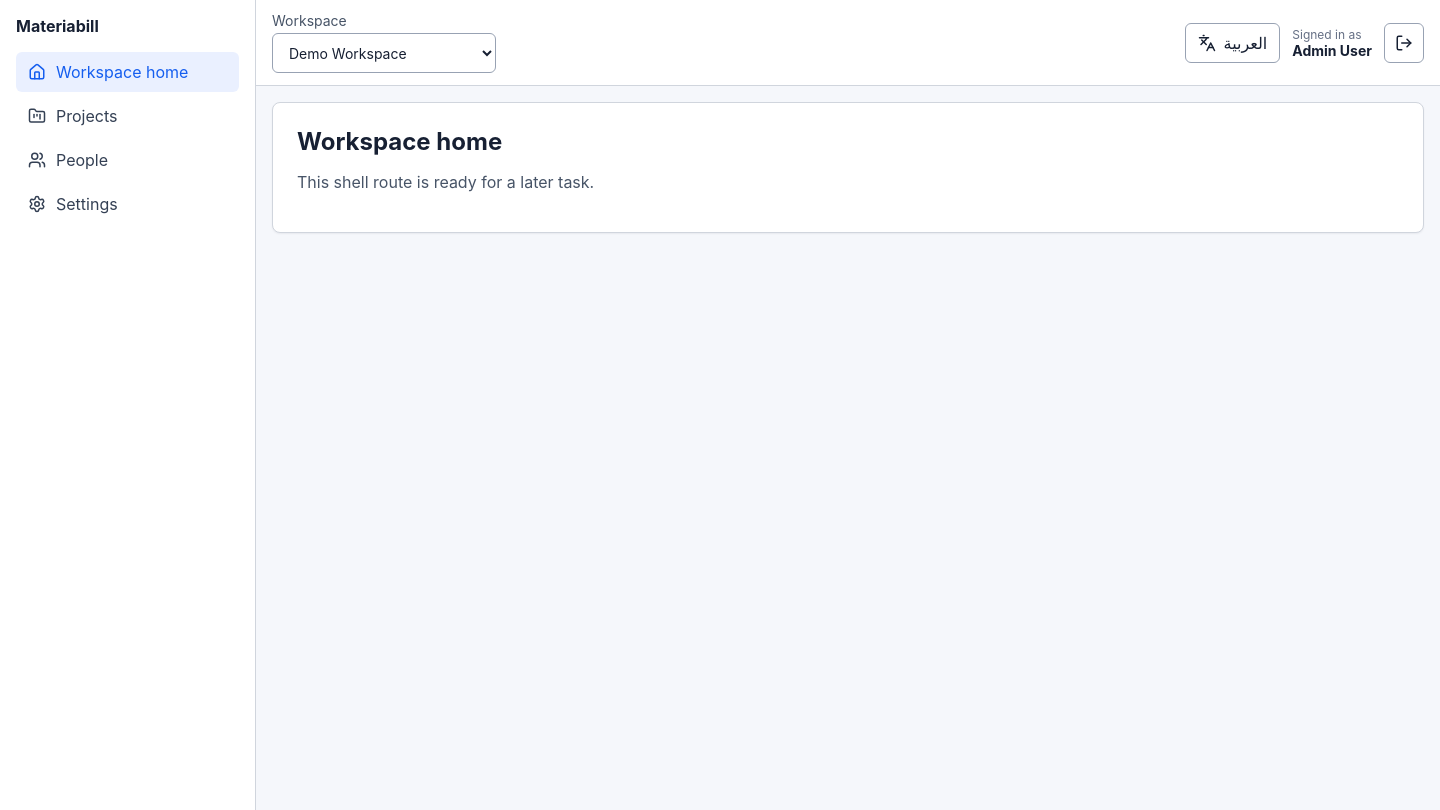
Test case: App › uses accurate Arabic sign-out copy
The width and height of the screenshot is (1440, 810).
expect the heading "Workspace home" is shown: met, box [297, 127, 502, 156]
Click the button "العربية".
click(1232, 42)  # box [1185, 22, 1280, 62]
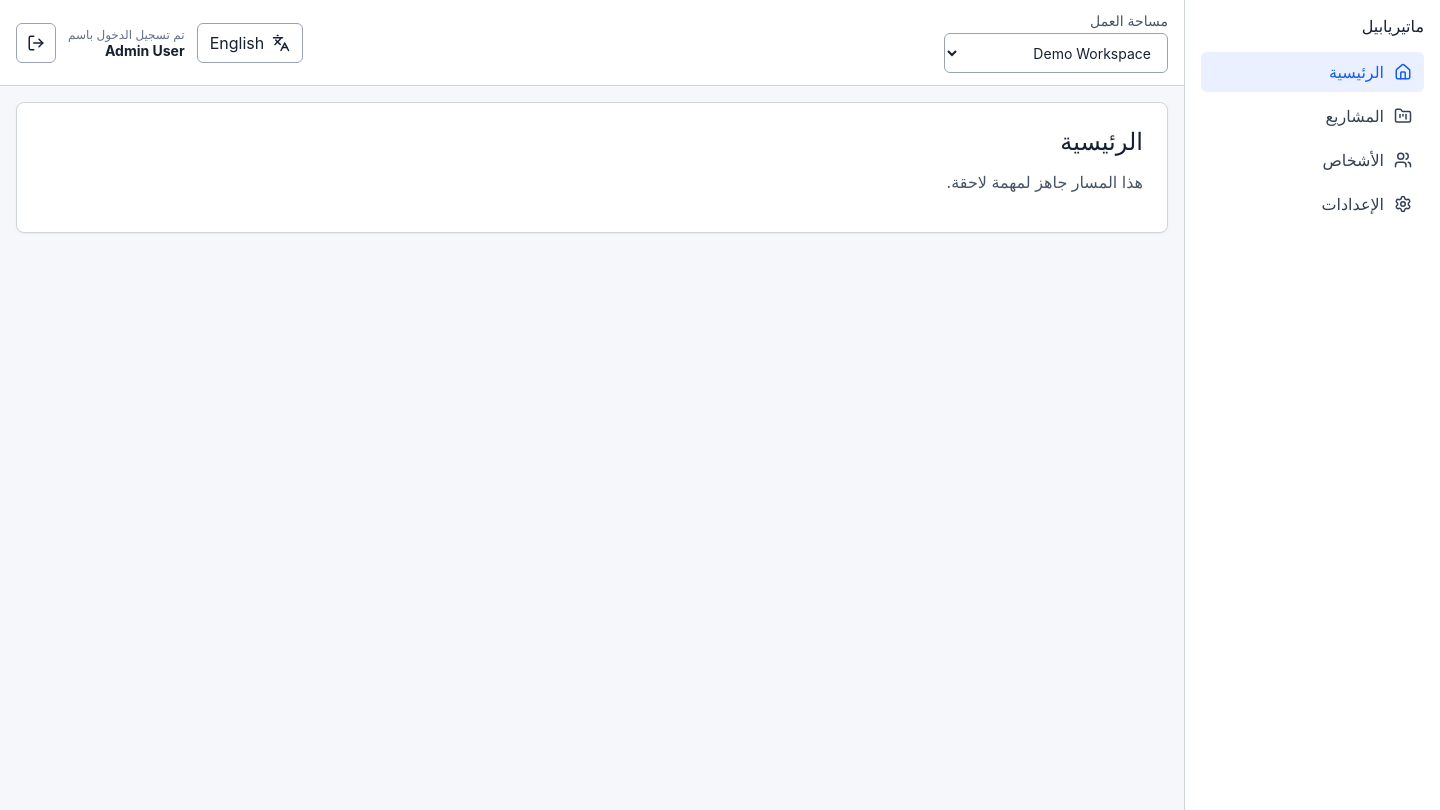
Click the button named "تسجيل الخروج".
click(36, 42)  # box [16, 22, 56, 62]
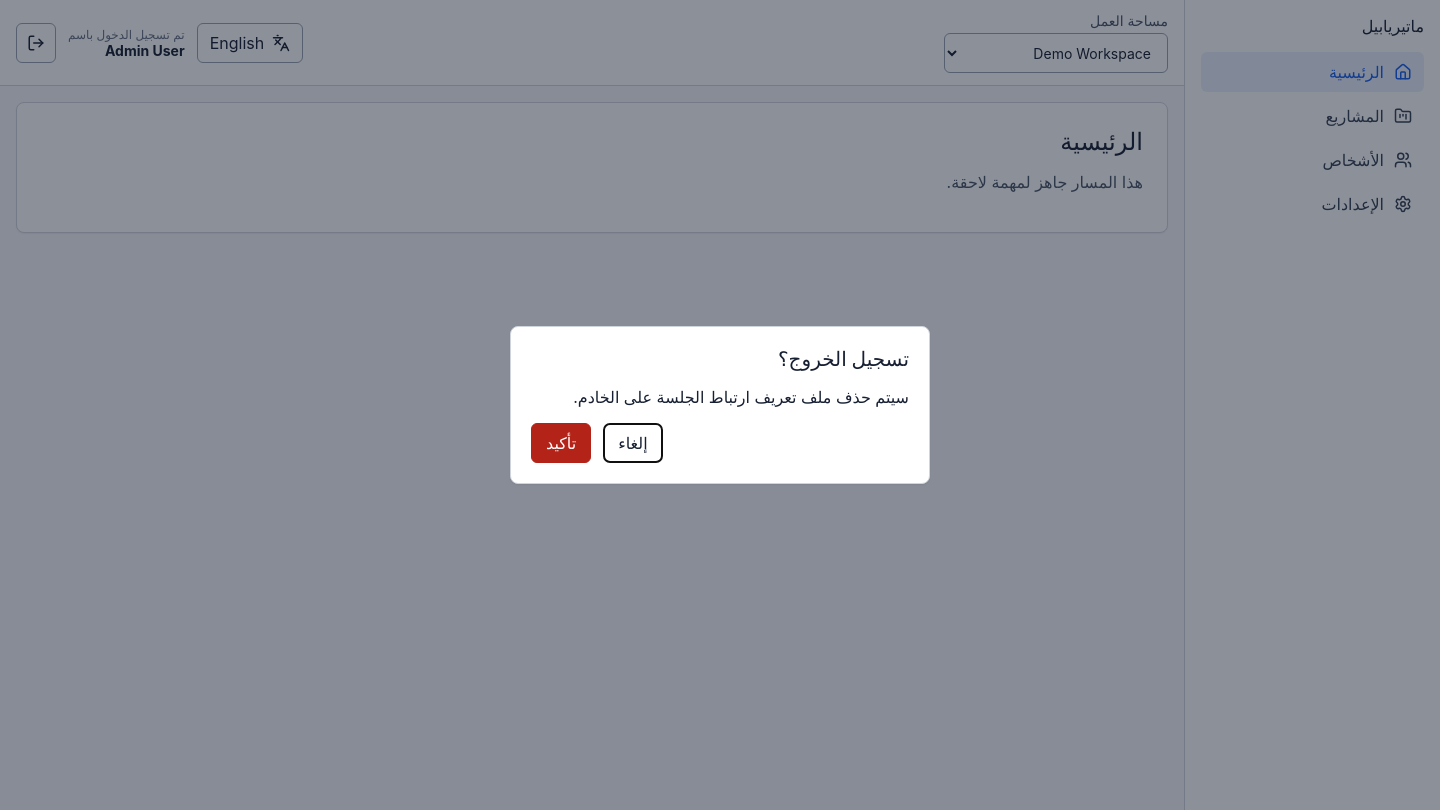
expect the text "سيتم حذف ملف تعريف ارتباط الجلسة على الخادم." is shown: met, box [531, 387, 909, 407]
